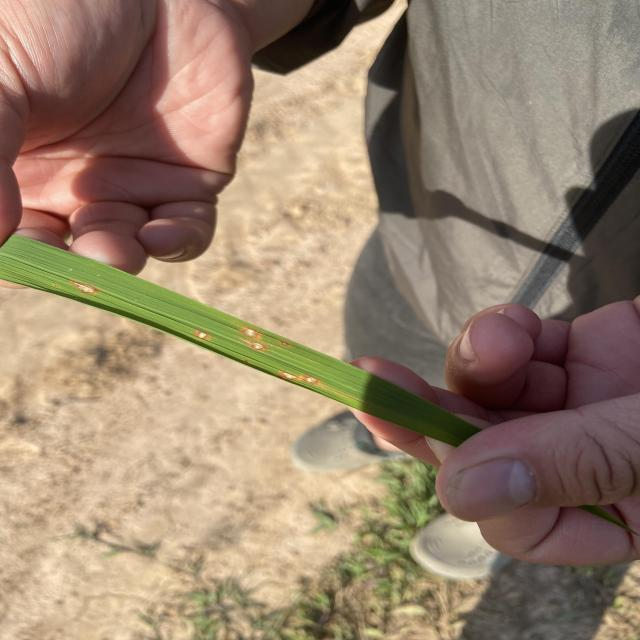Dao on: (70, 280, 96, 293), (242, 340, 266, 350), (241, 328, 258, 338), (300, 375, 318, 384), (281, 371, 298, 380), (196, 331, 208, 339), (281, 342, 288, 346), (54, 285, 59, 287)
